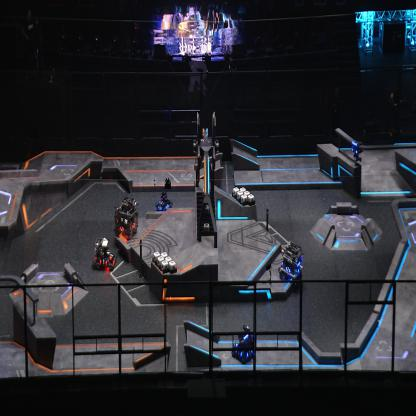car: (278, 240, 304, 285), (113, 195, 139, 239), (231, 325, 257, 365), (94, 236, 116, 270), (155, 190, 173, 212)
